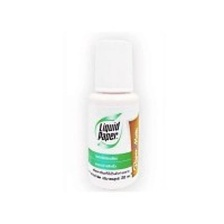correction_fluid: (83, 35, 142, 192)
